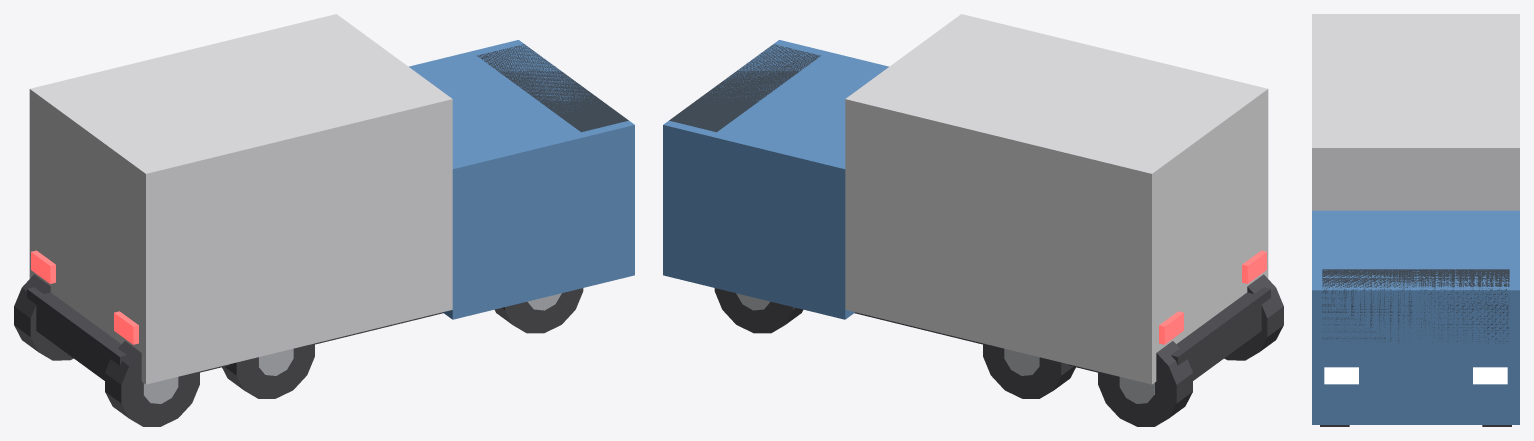
The model's file is bt-truck-box.glb.
3 renders of one model, left to right at view 1: azimuth 30°, elevation 25°; view 2: azimuth 150°, elevation 25°; view 3: azimuth 270°, elevation 25°, orthographic. The views are drawn at different scales.
Visible parts, largest first — view 1: cargo, cab, cabglass, chassis, wheel_2_-1, wheel_1_-1, wheel_0_-1, wheel_2_1, hub_2_-1, hub_1_-1, tail_1, tail_-1; view 2: cargo, cab, cabglass, chassis, wheel_2_1, wheel_1_1, wheel_0_1, wheel_2_-1, hub_2_1, hub_1_1, tail_1, tail_-1; view 3: cab, cargo, cabglass, head_1, head_-1.
Boxes of the visible parts, x1,y1,x2,y2 form: cargo: (29,14,452,384); cab: (409,40,634,319); cabglass: (477,44,628,132); chassis: (27,287,443,380); wheel_2_-1: (105,341,199,426); wheel_1_-1: (222,343,314,398); wheel_0_-1: (494,288,583,333); wheel_2_1: (14,274,73,360); hub_2_-1: (143,377,178,403); hub_1_-1: (258,348,293,375); tail_1: (31,250,55,283); tail_-1: (114,311,138,344); cargo: (845,14,1268,384); cab: (663,40,888,319); cabglass: (669,44,820,132); chassis: (854,287,1270,380); wheel_2_1: (1098,341,1192,426); wheel_1_1: (983,343,1075,398); wheel_0_1: (714,288,803,333); wheel_2_-1: (1224,274,1283,360); hub_2_1: (1119,377,1154,403); hub_1_1: (1004,348,1039,375); tail_1: (1159,311,1183,344); tail_-1: (1242,250,1266,283); cab: (1312,210,1519,424); cargo: (1312,14,1519,210); cabglass: (1322,269,1509,343); head_1: (1473,367,1507,384); head_-1: (1324,367,1358,384).
Bounding box in the file's own units: 5.33 × 2.6 × 2.1.
